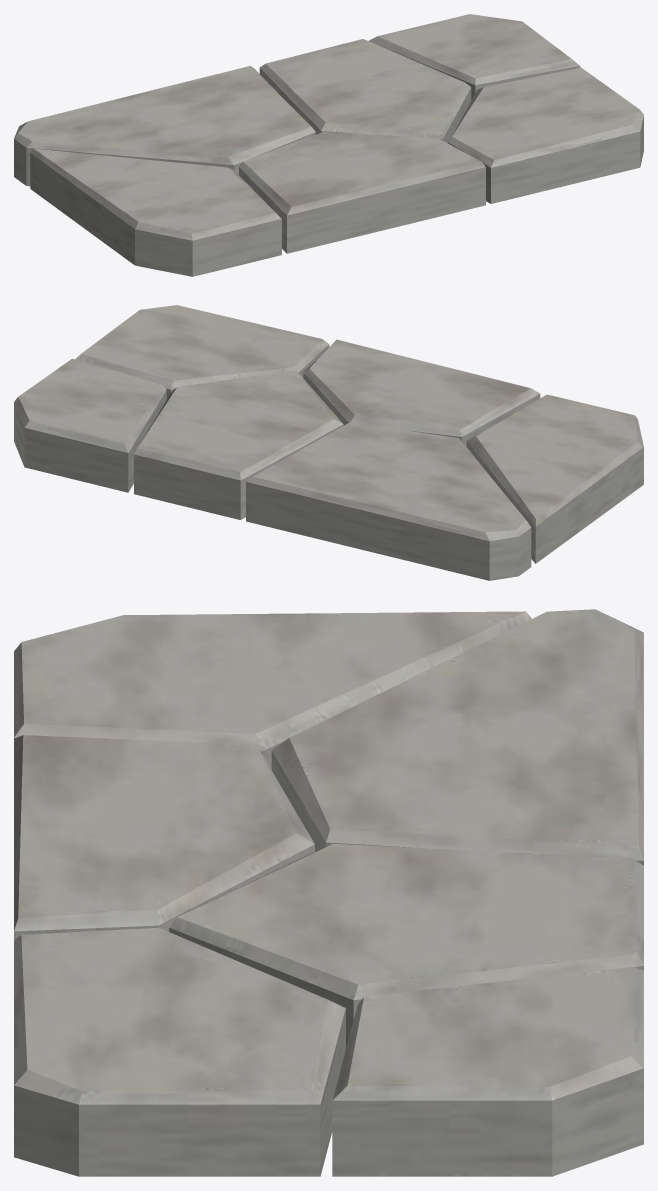
Rendered from BR17_cracked_floor_slab_v2.glb.
3 views of the same model, one above another, from view 1: azimuth 30°, elevation 25°; view 2: azimuth 150°, elevation 25°; view 3: azimuth 270°, elevation 25° (orthographic). The views are drawn at different scales.
Parts seen in each view (by area): view 1: Fractured_slab_00; view 2: Fractured_slab_00; view 3: Fractured_slab_00.
Part boxes in pixels (x1=…): Fractured_slab_00: x1=14, y1=14, x2=643, y2=276; Fractured_slab_00: x1=14, y1=305, x2=643, y2=580; Fractured_slab_00: x1=14, y1=609, x2=643, y2=1176.
Size of the model in its own units: 3 by 0.25 by 1.65.
Materials: 2 (2 with a texture image).
